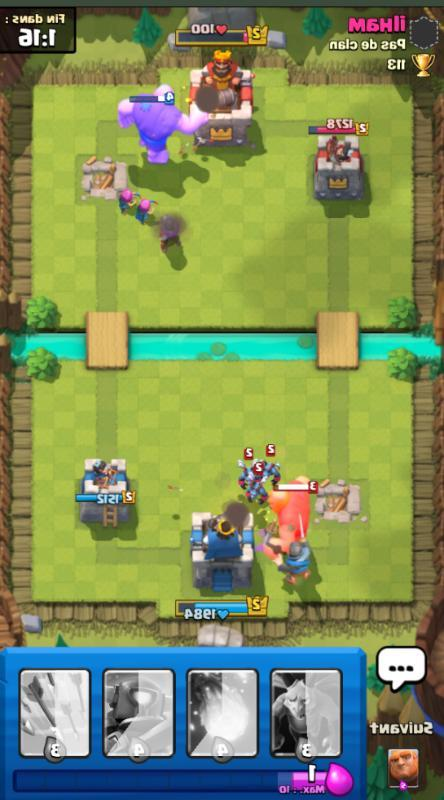enemy_giant: (261, 478, 321, 545)
enemy_minions: (233, 459, 260, 485), (255, 454, 283, 479), (242, 478, 270, 503)
player_archers: (132, 191, 159, 225), (113, 181, 140, 213)
player_giant: (114, 84, 216, 169)
player_knight: (263, 531, 321, 585)
player_musketeer: (157, 211, 185, 253)
